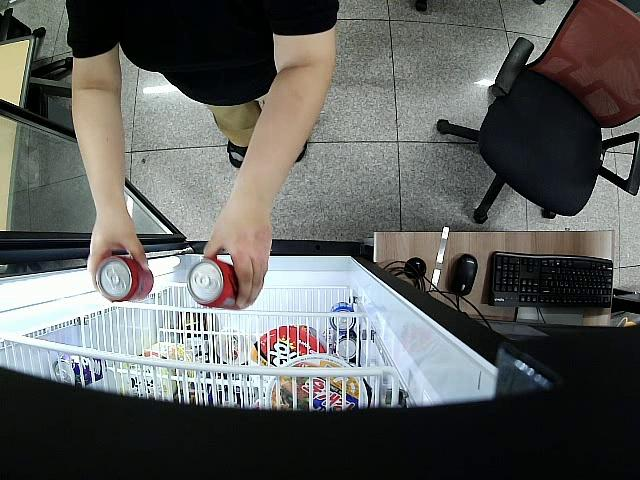00_hand: (203, 212, 273, 308), (86, 215, 151, 291)
11_cocaColaZero: (185, 257, 240, 312), (95, 255, 155, 303)
